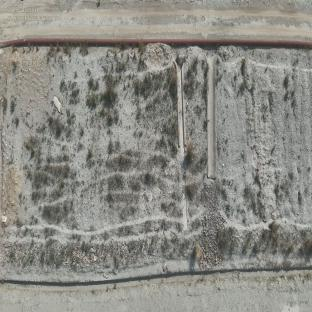rock_toe: (2, 226, 201, 274)
slope_drain: (174, 63, 189, 234), (205, 57, 218, 180)
toe_drain: (0, 264, 312, 289)
